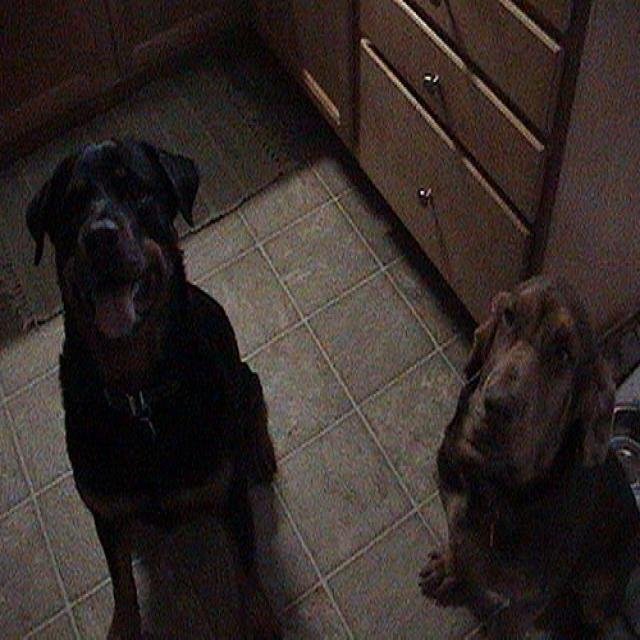Dog: (13, 122, 339, 631), (423, 177, 640, 640)
